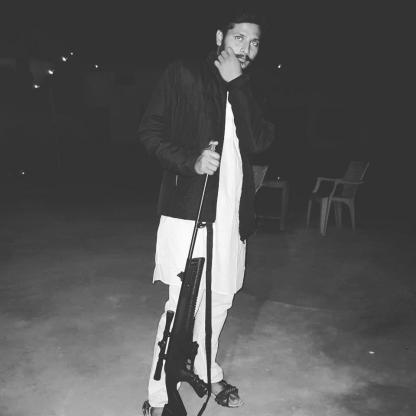rifle: (151, 141, 220, 416)
